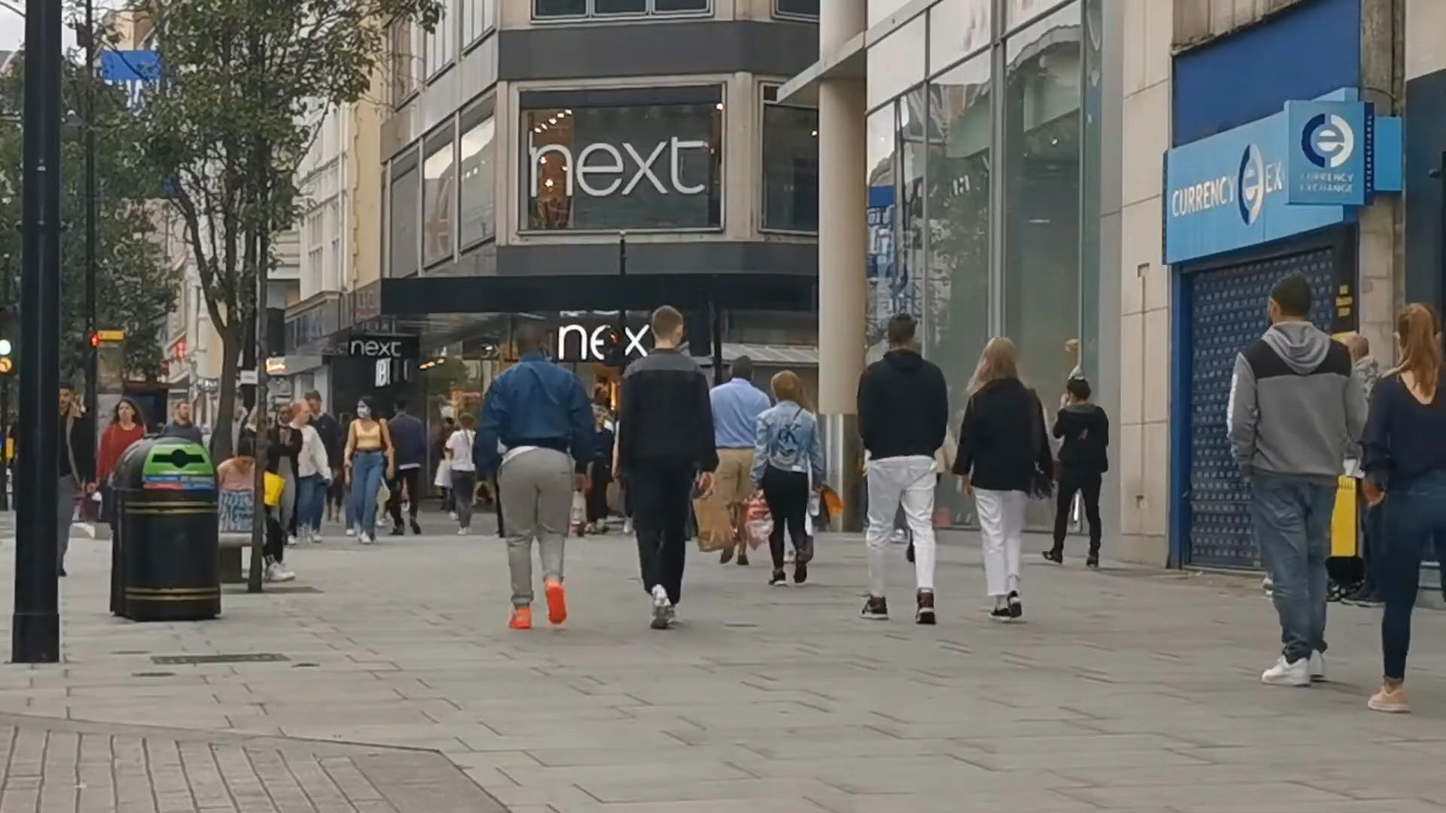no-helmet: (1396, 301, 1438, 364), (1266, 270, 1312, 325), (976, 337, 1019, 380), (651, 305, 683, 348), (886, 312, 917, 350), (515, 321, 544, 358), (772, 369, 801, 405), (1066, 374, 1091, 405), (728, 355, 755, 383), (113, 397, 140, 423), (357, 395, 379, 422), (60, 381, 75, 410), (176, 400, 190, 423)
